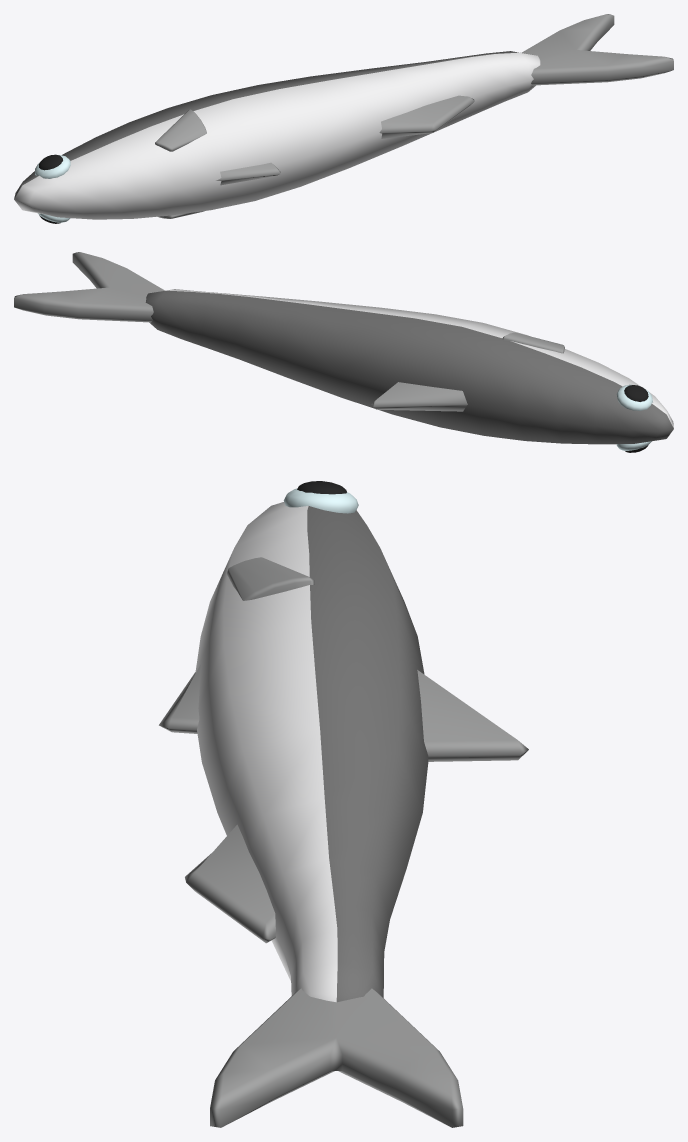
The model's file is Anchovy_2.fbx.
The picture shows the model from 3 angles, top to bottom: view 1: azimuth 30°, elevation 25°; view 2: azimuth 150°, elevation 25°; view 3: azimuth 270°, elevation 25°; orthographic projection. The views are drawn at different scales.
Parts seen in each view (by area): view 1: Anchovy_2; view 2: Anchovy_2; view 3: Anchovy_2.
Part boxes in pixels (x1=…): Anchovy_2: x1=14, y1=14, x2=673, y2=223; Anchovy_2: x1=14, y1=252, x2=673, y2=452; Anchovy_2: x1=159, y1=481, x2=528, y2=1127.
Bounding box in the file's own units: 21.29 × 3.2 × 5.46.
